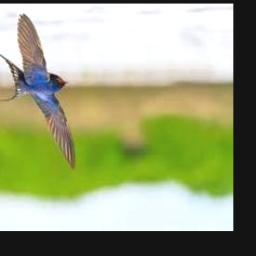Swallow: (0, 14, 75, 172)
